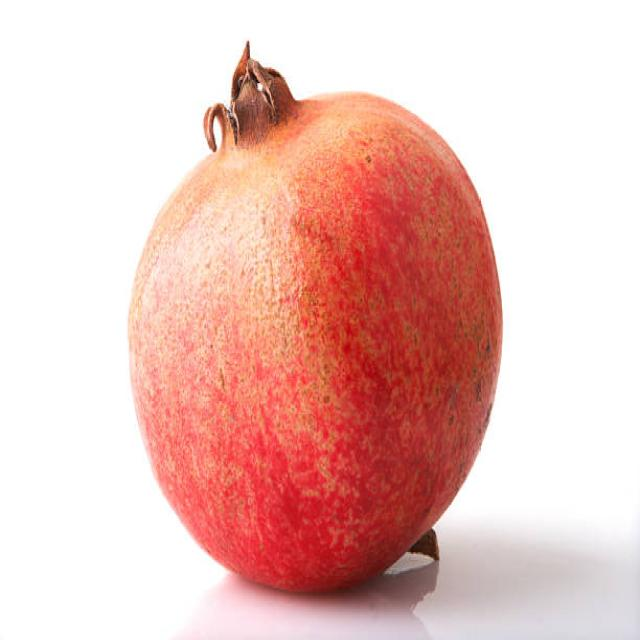Ripe: (122, 40, 508, 596)
